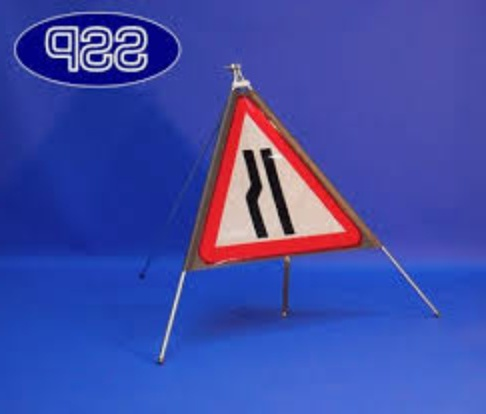Narrow_road: (184, 91, 370, 263)
